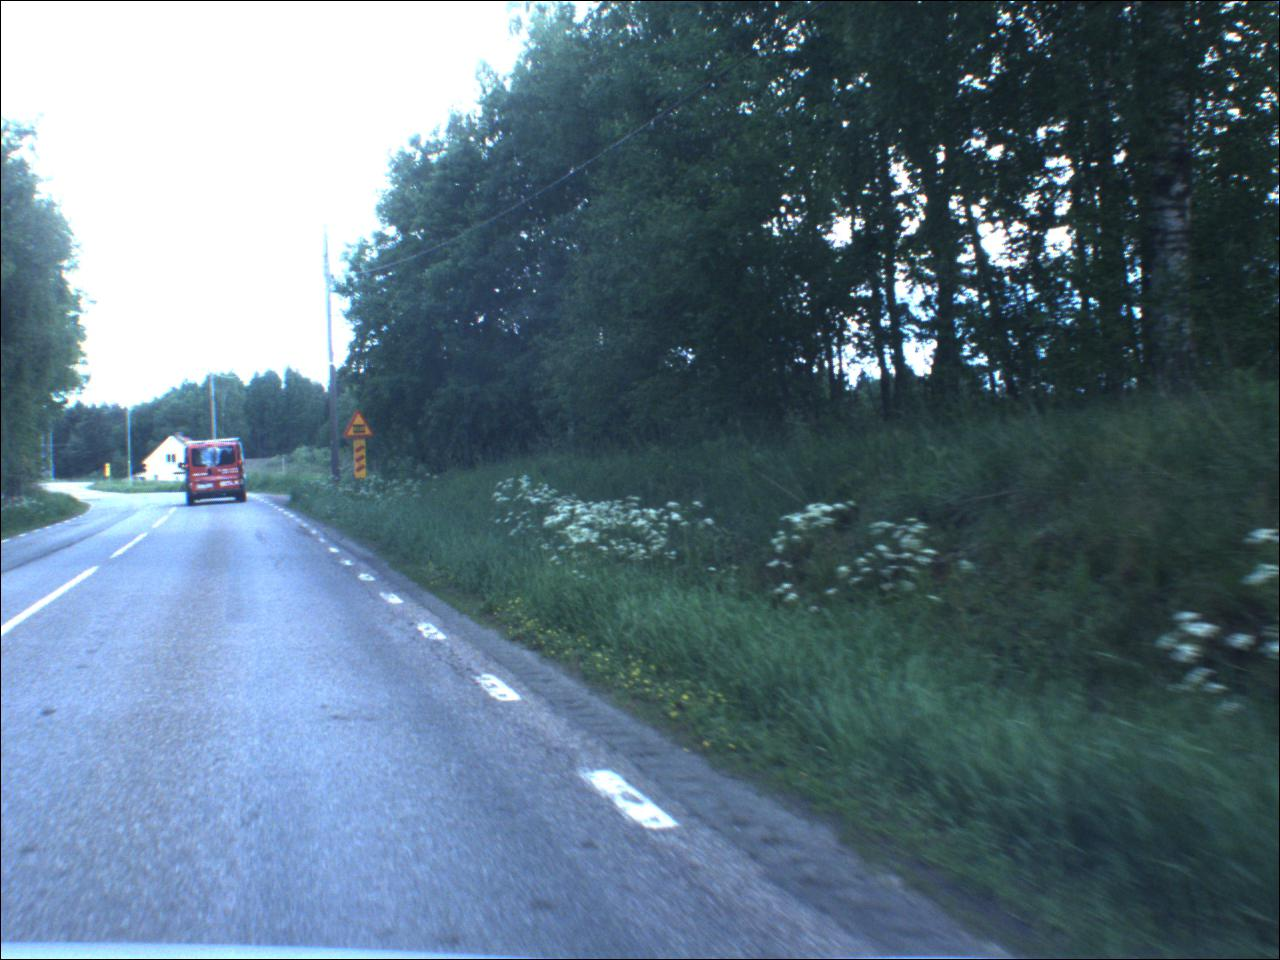WARNING_RAIL_CROSSING: (346, 411, 376, 440)
